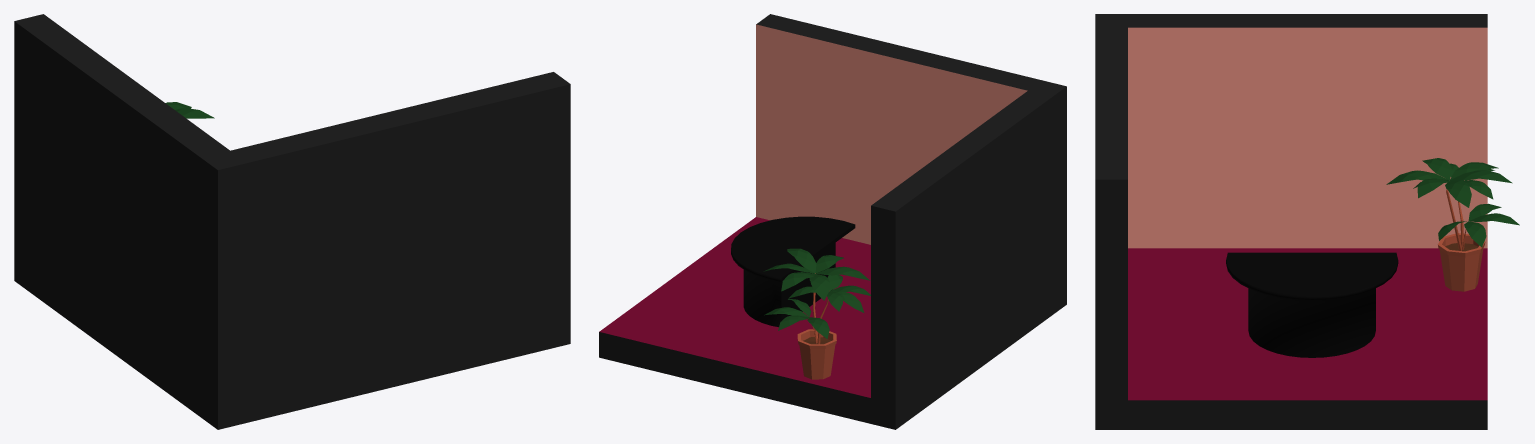
Rendered from room.glb.
The picture shows the model from 3 angles, left to right: view 1: azimuth 30°, elevation 25°; view 2: azimuth 150°, elevation 25°; view 3: azimuth 270°, elevation 25°; orthographic projection. The views are drawn at different scales.
Visible parts, largest first — view 1: room; view 2: room, table, leaf.004, pot, leaf.014, leaf.003; view 3: room, table, leaf.004, pot, leaf.003.
Part boxes in pixels (left/top/right/bottom): room: left=14, top=14, right=570, bottom=429; room: left=599, top=14, right=1066, bottom=429; table: left=731, top=216, right=855, bottom=327; leaf.004: left=763, top=248, right=870, bottom=300; pot: left=797, top=329, right=836, bottom=379; leaf.014: left=789, top=275, right=870, bottom=312; leaf.003: left=764, top=298, right=829, bottom=338; room: left=1095, top=14, right=1487, bottom=429; table: left=1226, top=252, right=1398, bottom=357; leaf.004: left=1386, top=158, right=1512, bottom=207; pot: left=1438, top=233, right=1485, bottom=291; leaf.003: left=1438, top=203, right=1519, bottom=247.
Bounding box in the file's own units: 2.31 × 1.63 × 2.5.
